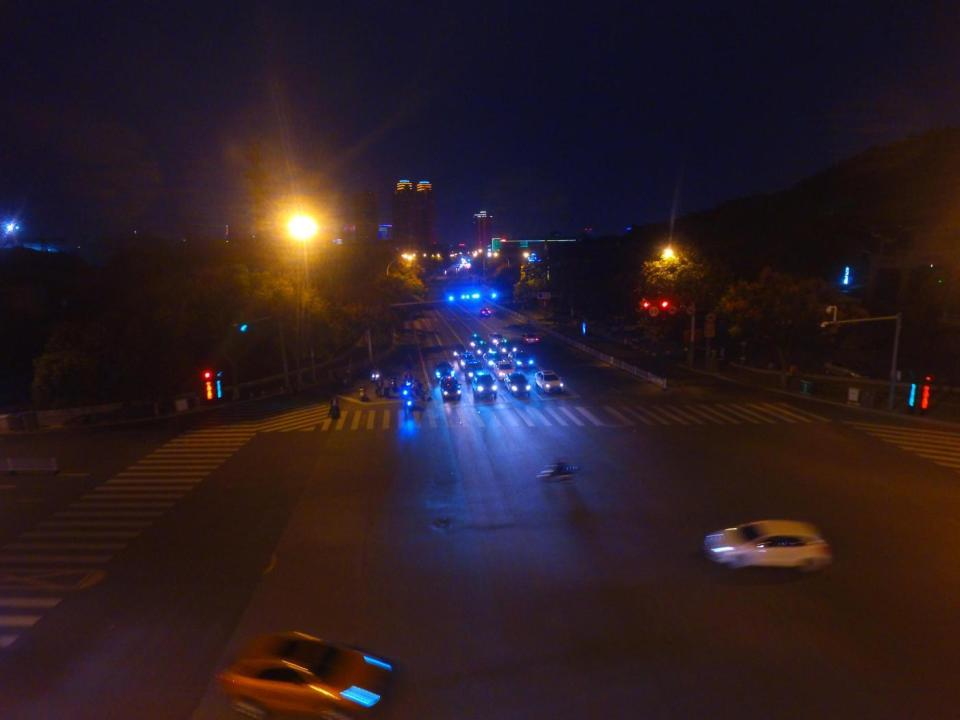car: (216, 629, 396, 720), (702, 520, 832, 576), (816, 348, 873, 378), (472, 369, 496, 402), (534, 370, 564, 396), (506, 372, 532, 397), (438, 377, 461, 403), (465, 360, 486, 381), (434, 360, 454, 382), (495, 361, 515, 380), (482, 351, 502, 368), (449, 341, 468, 358), (521, 330, 540, 347), (513, 354, 534, 369), (498, 341, 517, 357), (474, 343, 493, 358), (458, 353, 474, 370), (488, 334, 507, 348), (480, 306, 494, 320), (470, 335, 483, 349)
